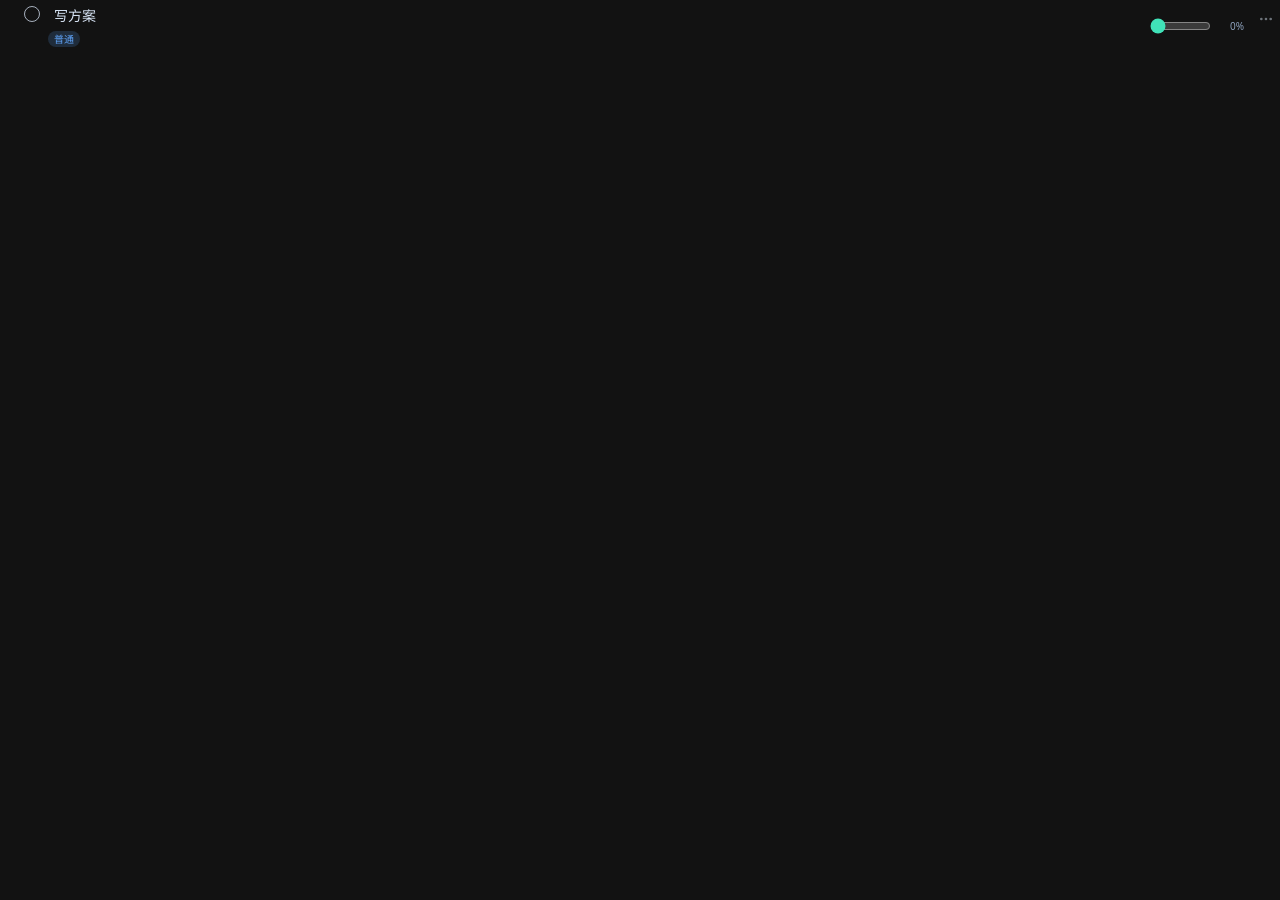
TaskItem scheduling controls › cancels detail schedule edits without saving and keeps action row styling
This screenshot has width=1280, height=900.
Right-click the list item: coordinates (640, 26) [0,0,1279,53]
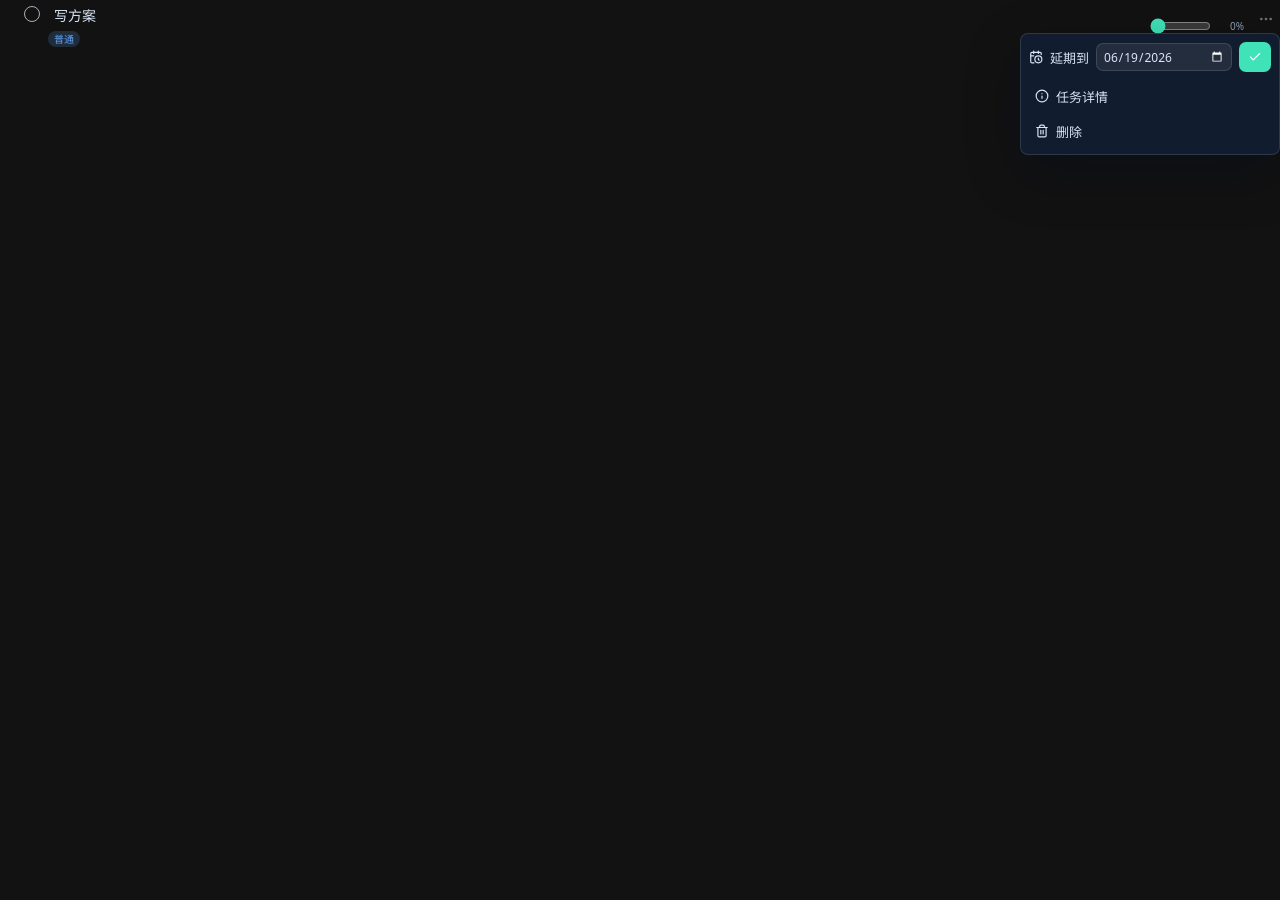
Click the button "任务详情": coordinates (1150, 96) [1029,81,1271,111]
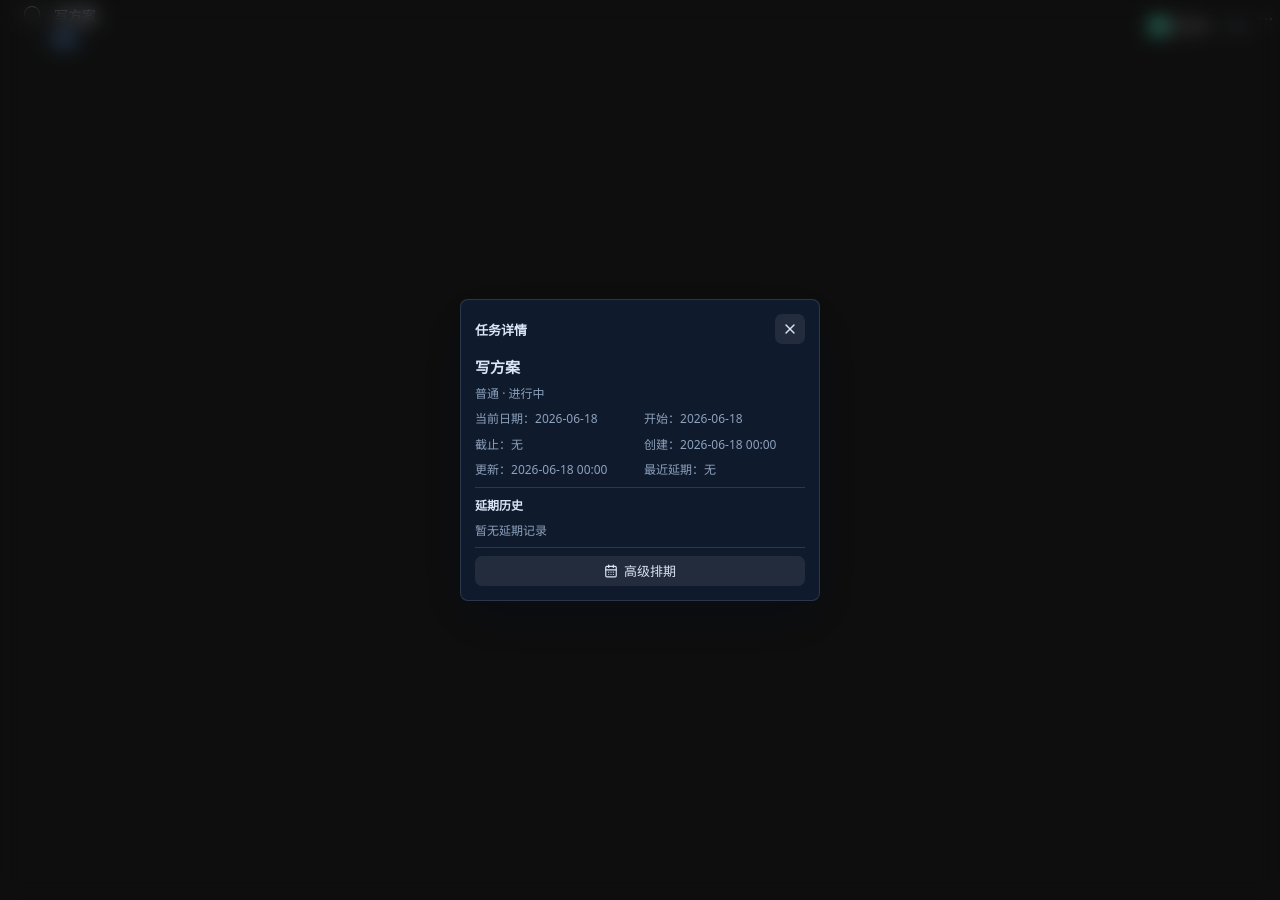
Click the button "高级排期": coordinates (640, 571) [475,556,805,586]
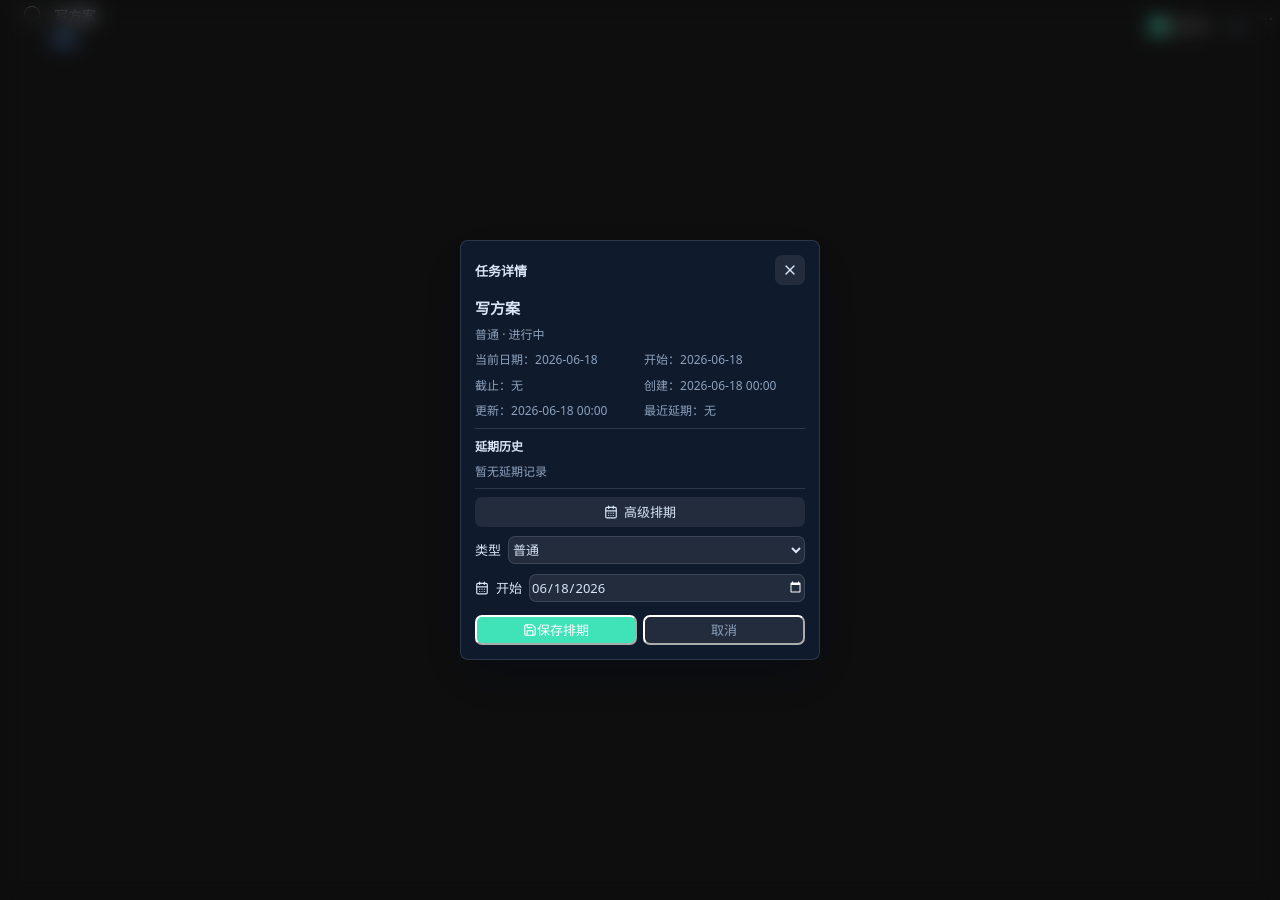
Select "多日" in the dropdown named "任务类型": coordinates (656, 550) [508,536,805,564]
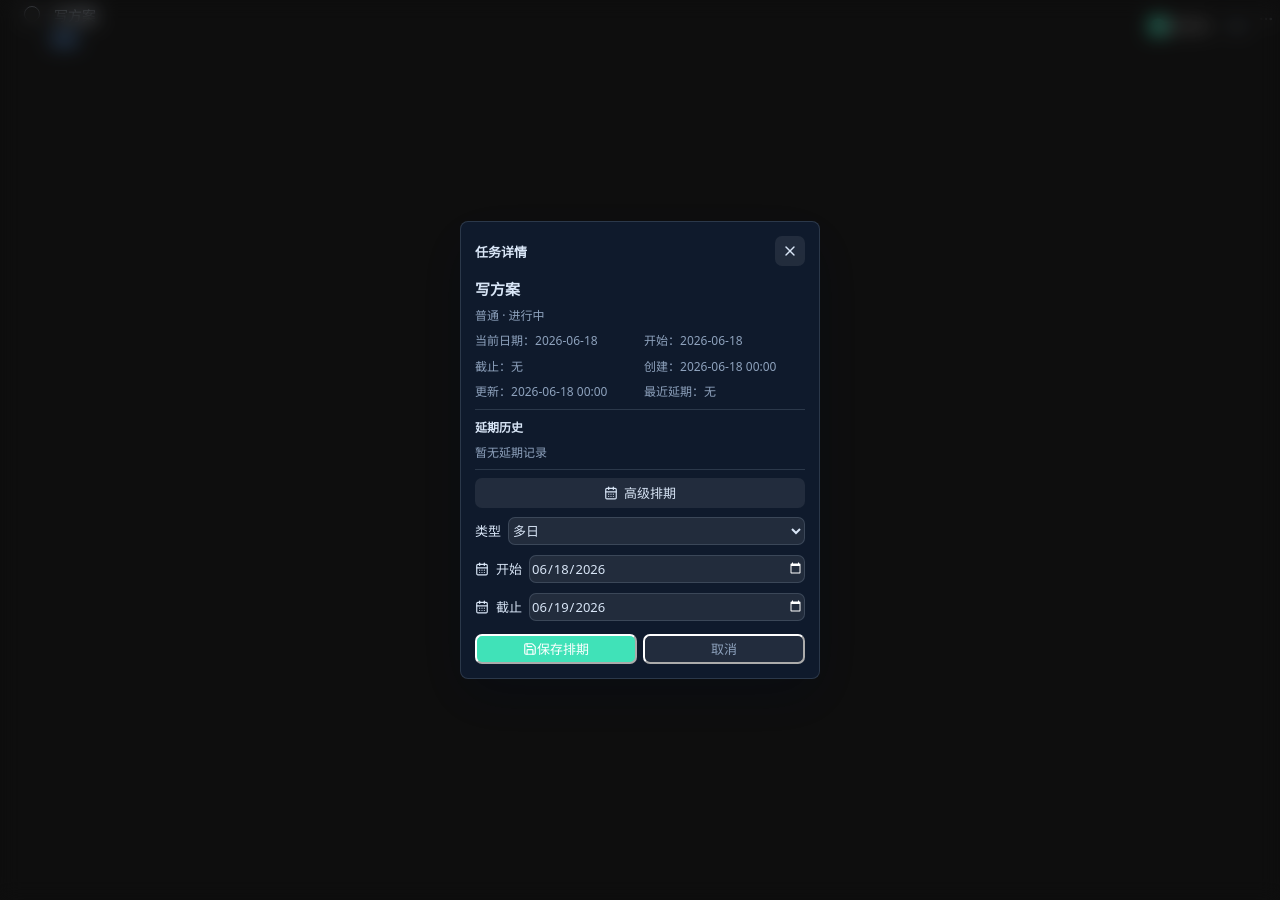
Result: the element "保存排期" is shown at [475,630,805,664]
Click the button "取消": coordinates (724, 649) [643,634,805,664]
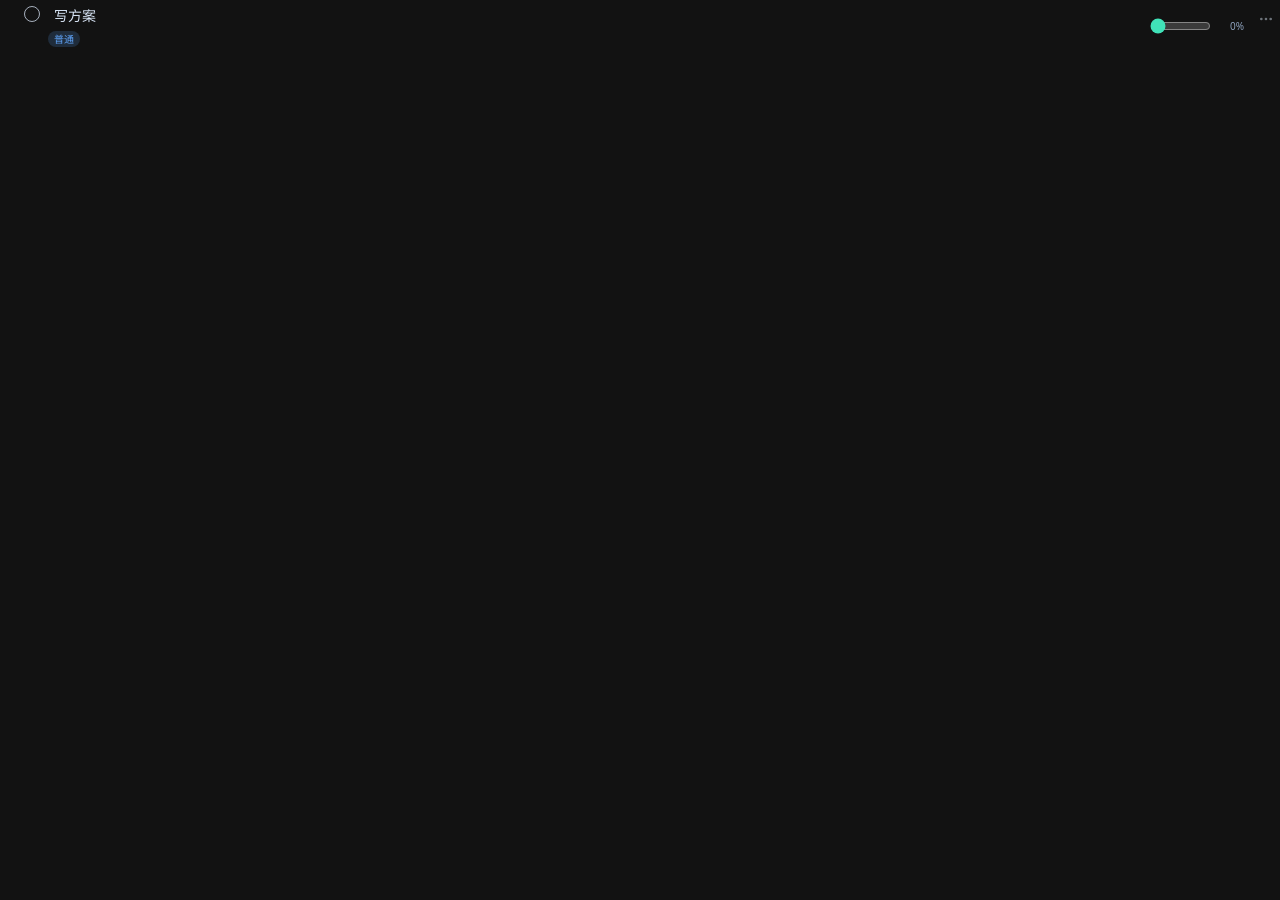
Result: the text "任务详情" is gone
